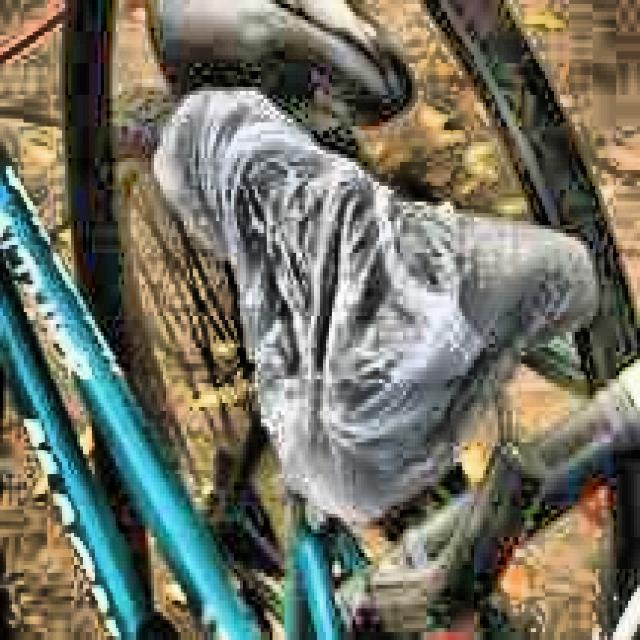Plastic: (144, 81, 607, 528)
